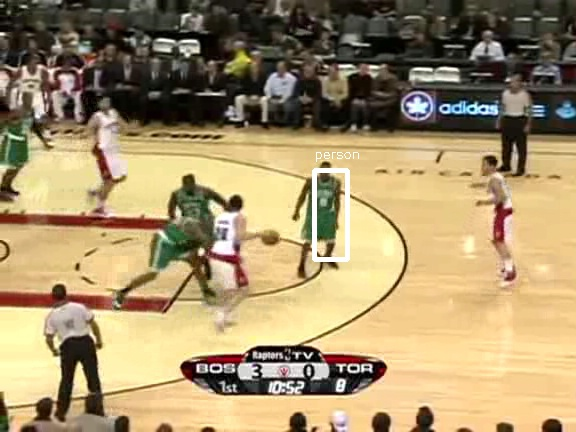person: (307, 169, 341, 250), (306, 169, 340, 250), (308, 169, 342, 250), (307, 168, 341, 249), (307, 170, 341, 251)
target_negative: (76, 213, 527, 320), (173, 153, 503, 240), (283, 223, 531, 272), (442, 137, 524, 226), (372, 397, 550, 424), (522, 185, 553, 203)
